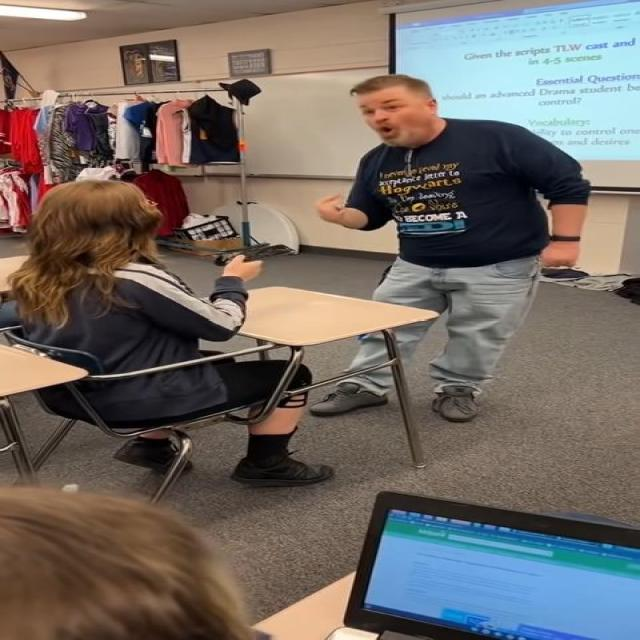NO-Mask: (352, 85, 441, 148)
